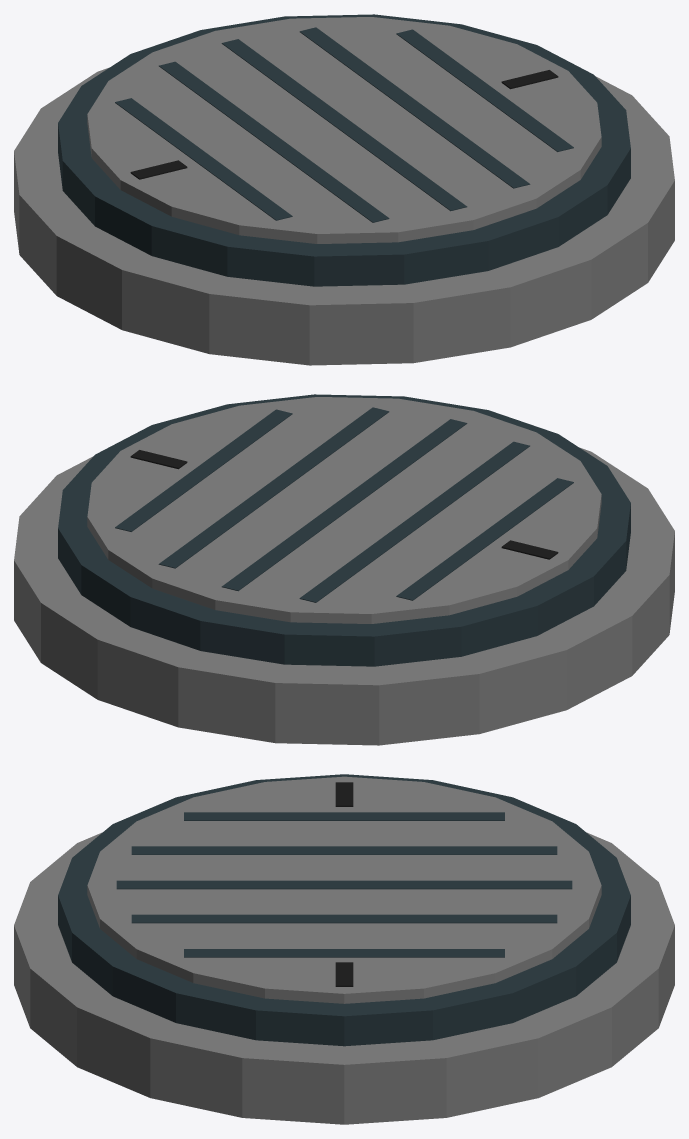
The model's file is utility-cover.glb.
The picture shows the model from 3 angles, top to bottom: view 1: azimuth 30°, elevation 25°; view 2: azimuth 150°, elevation 25°; view 3: azimuth 270°, elevation 25°; orthographic projection.
Visible parts, largest first — view 1: utility-cover; view 2: utility-cover; view 3: utility-cover.
Boxes of the visible parts, box(x1,y1,x2,y2) form: utility-cover: box(14, 14, 674, 365); utility-cover: box(14, 394, 674, 745); utility-cover: box(14, 774, 674, 1124).
Size of the model in its own units: 0.9 by 0.152 by 0.9.
